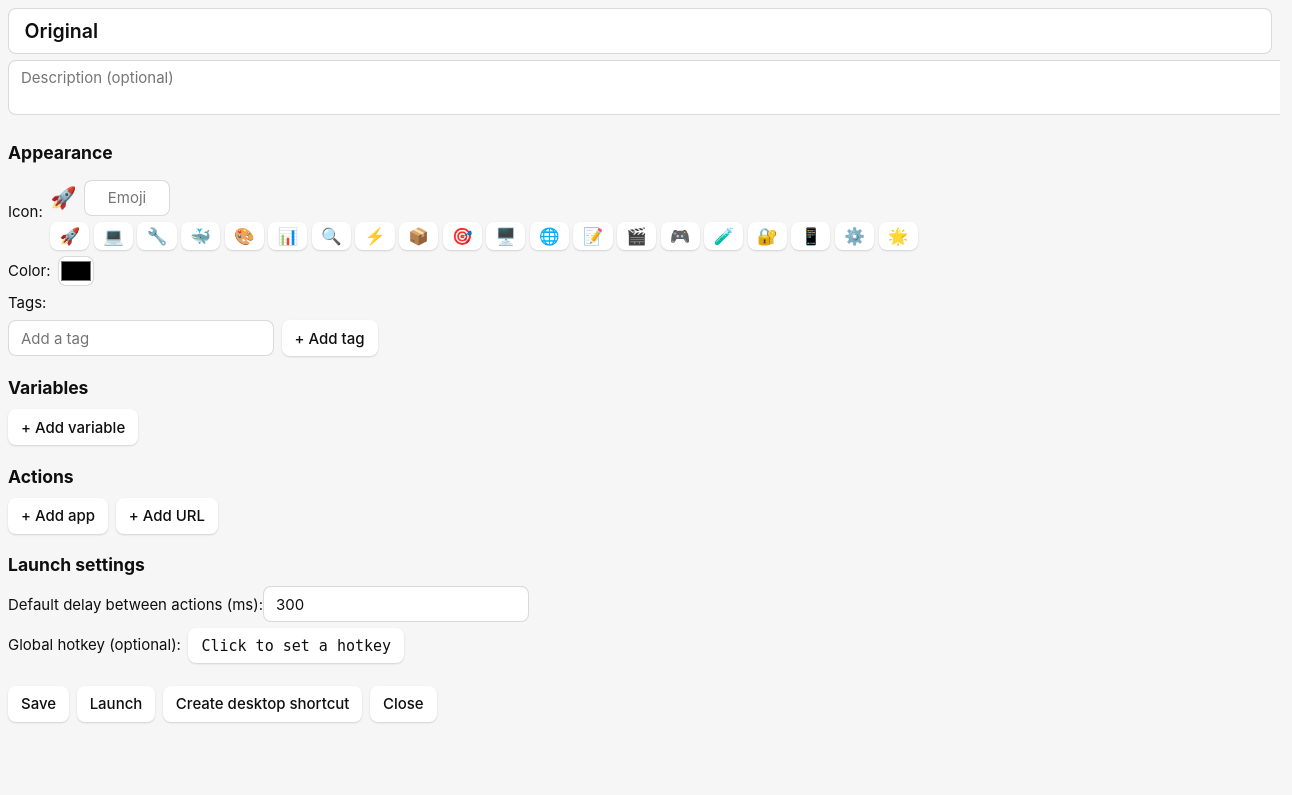
Test case: WorkspaceEditor › shows an unsaved-edits hint after launching a modified draft (#9)
Replace the text in the field with placeholder "Workspace name" with "Edited" at (640, 31), box [8, 8, 1272, 54]
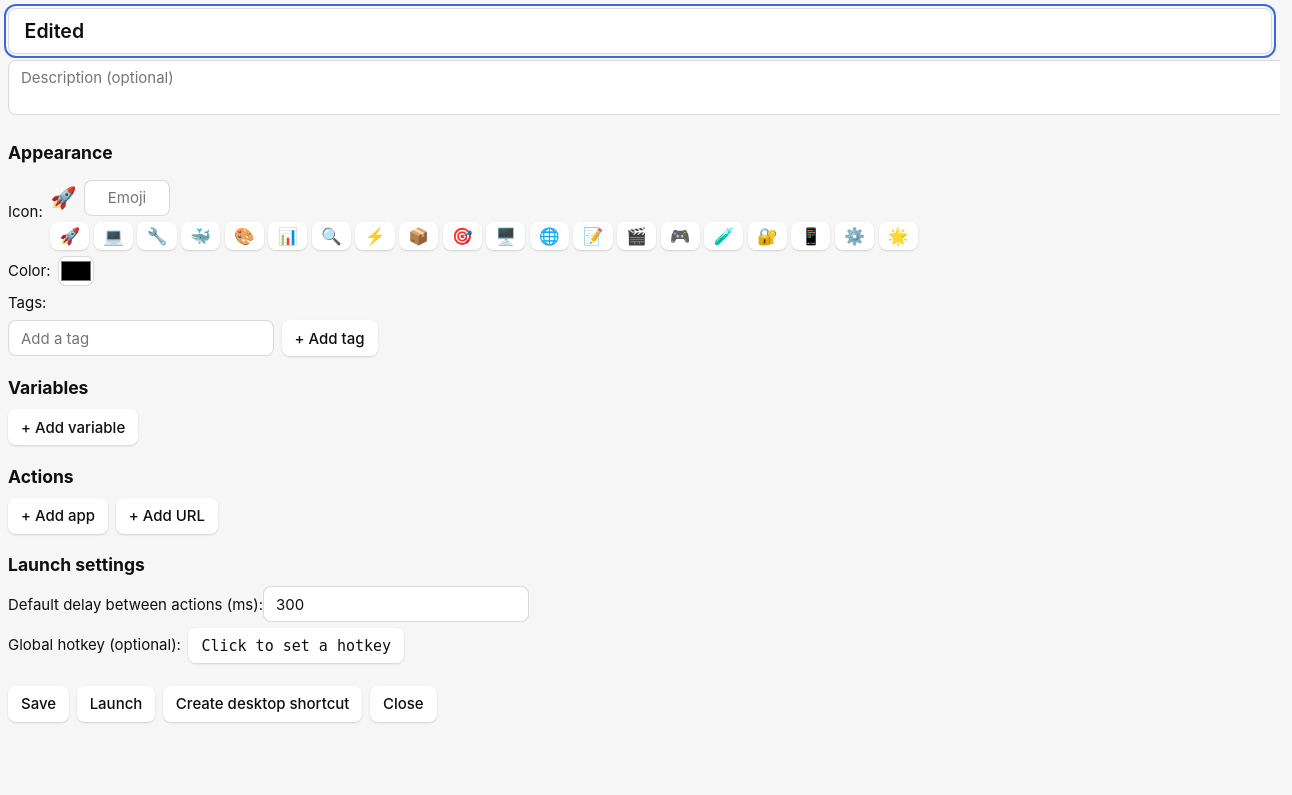
Click the button "Launch" at (116, 704), box [77, 686, 155, 722]
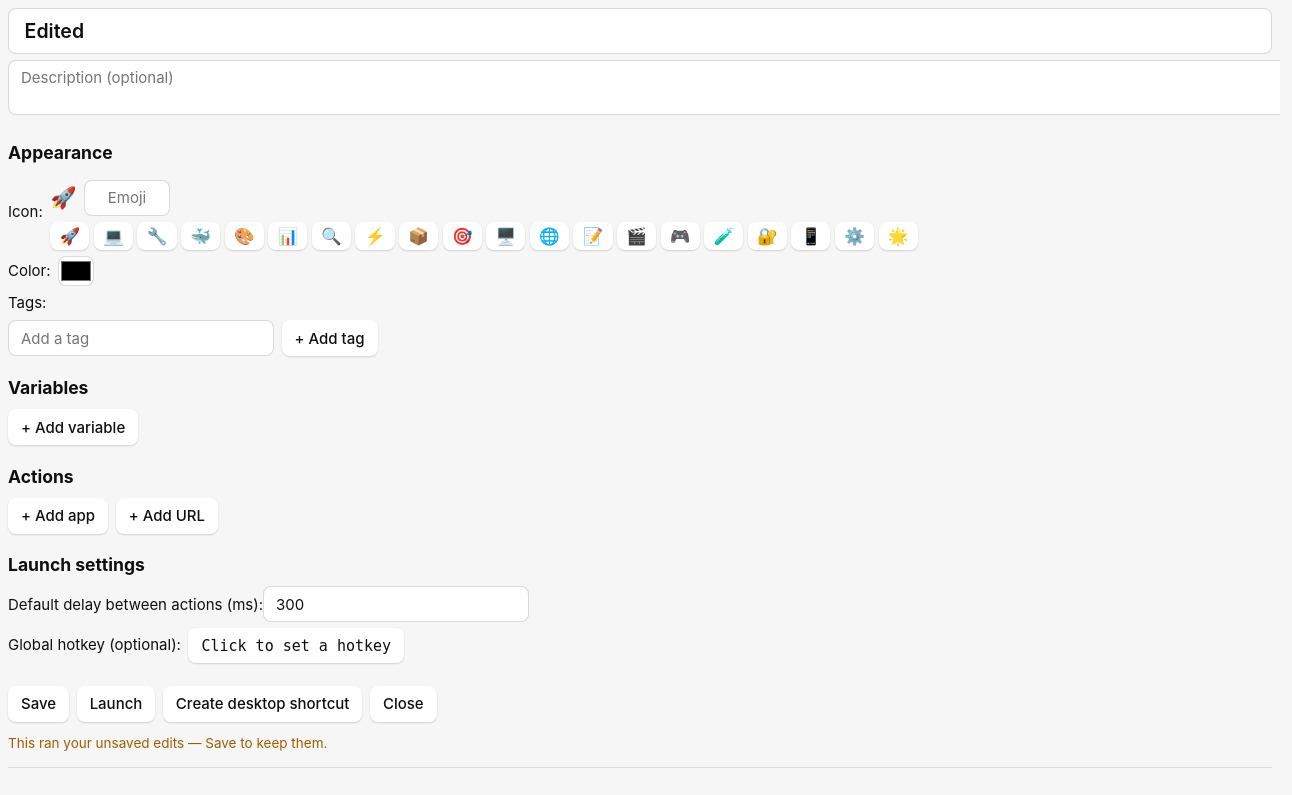
Check: the text "This ran your unsaved edits — Save to keep them." is shown, box [8, 735, 327, 751]
